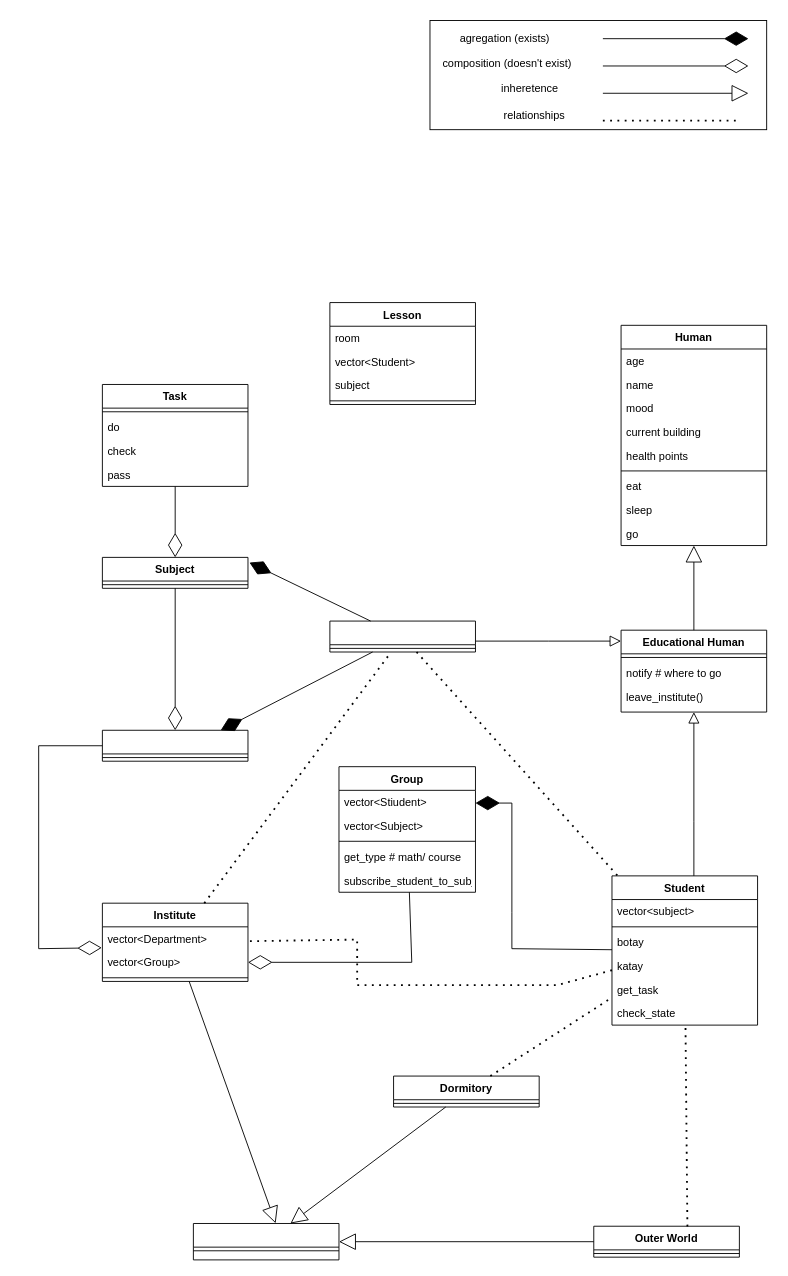
The diagram is 788 pixels wide and 1276 high, and some of its shapes have lost their labels. The centre of each missing label's shape, as x and y in pixels:
"Building" belongs at (x=265, y=1241).
"Department" belongs at (x=174, y=745).
"Teacher" belongs at (x=402, y=636).
